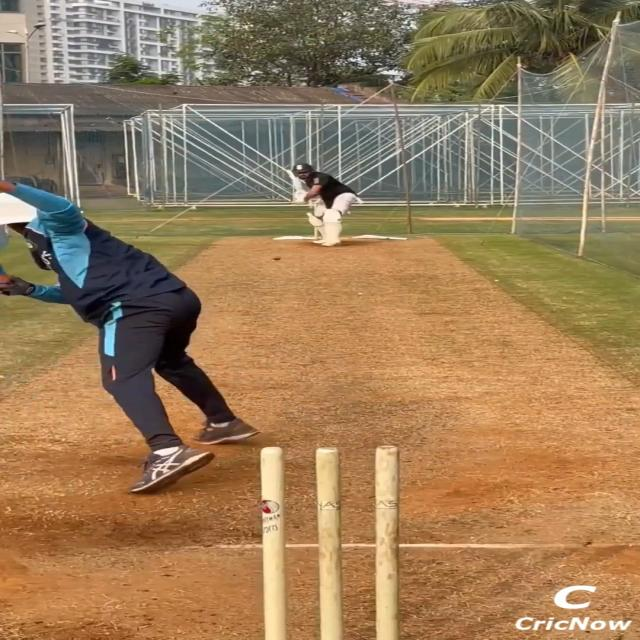ball: (272, 256, 280, 260)
stump: (262, 446, 402, 640)
